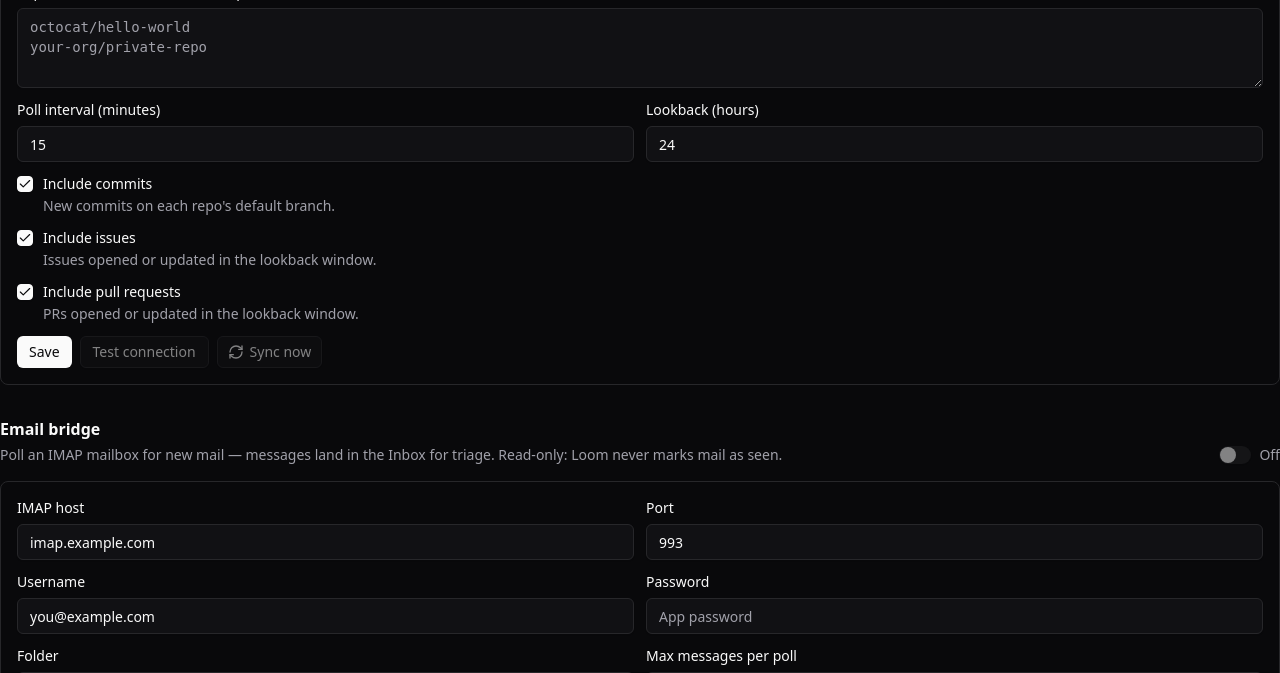
ConnectionsSection › surfaces the enabled-without-repos 422 as an inline error
(page scrolled)
Click the button with aria-label "Save GitHub settings" at (44, 352), box x1=17 y1=336 x2=72 y2=368
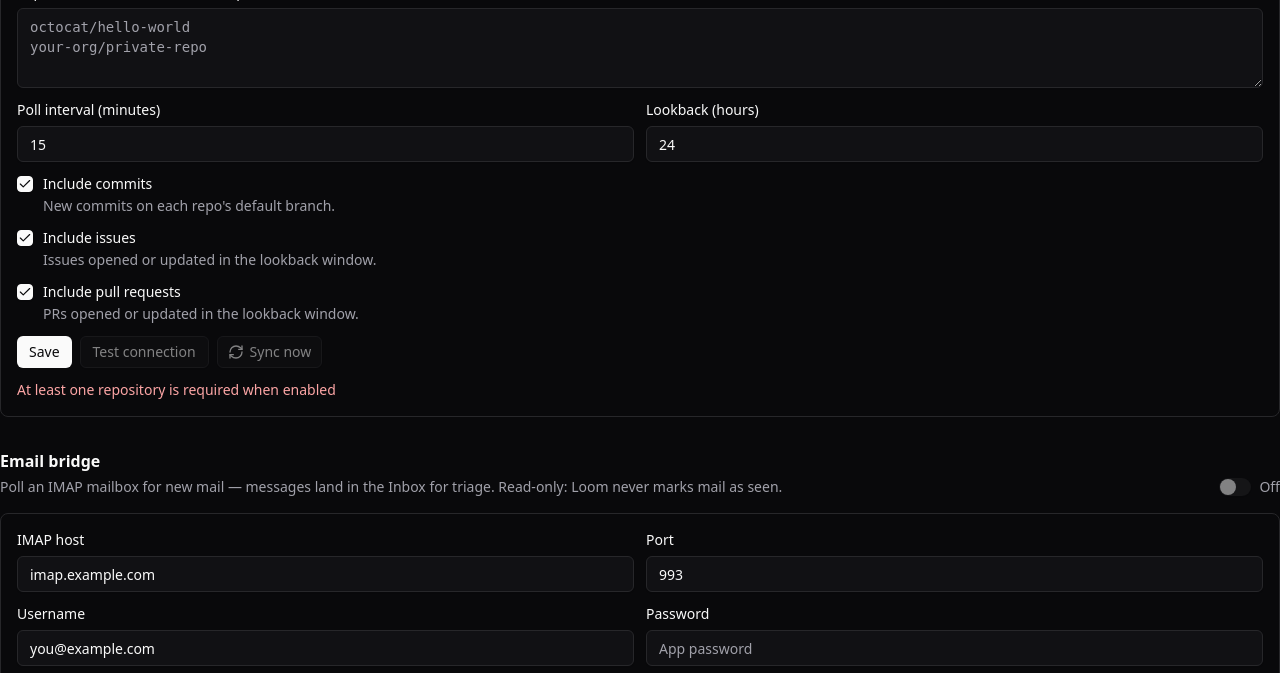
Result: the text "At least one repository is required when enabled" is shown at x1=17 y1=380 x2=336 y2=399
